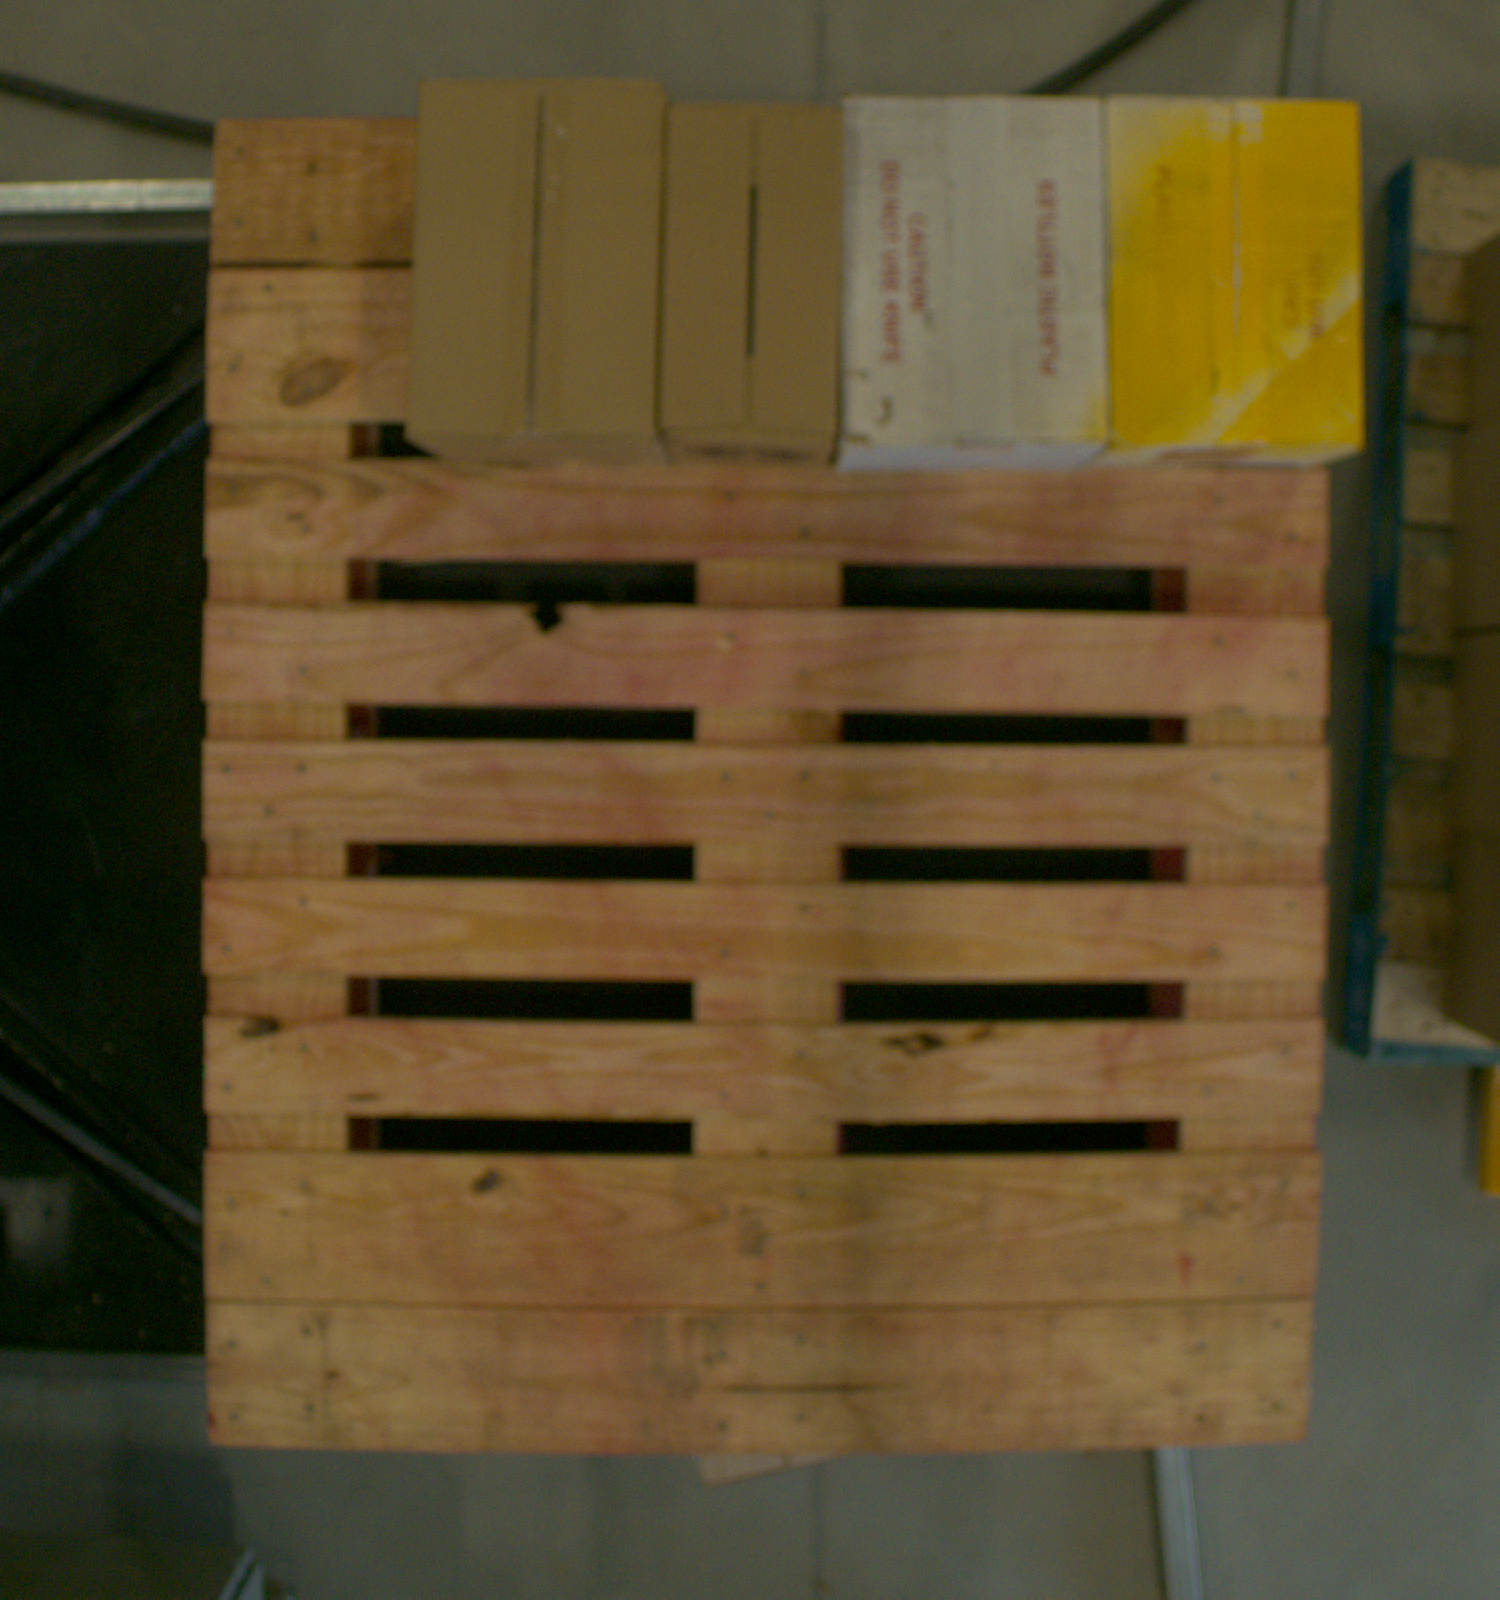box top: (846, 97, 1102, 447), (1111, 100, 1365, 448), (413, 80, 658, 438), (667, 106, 837, 441)
